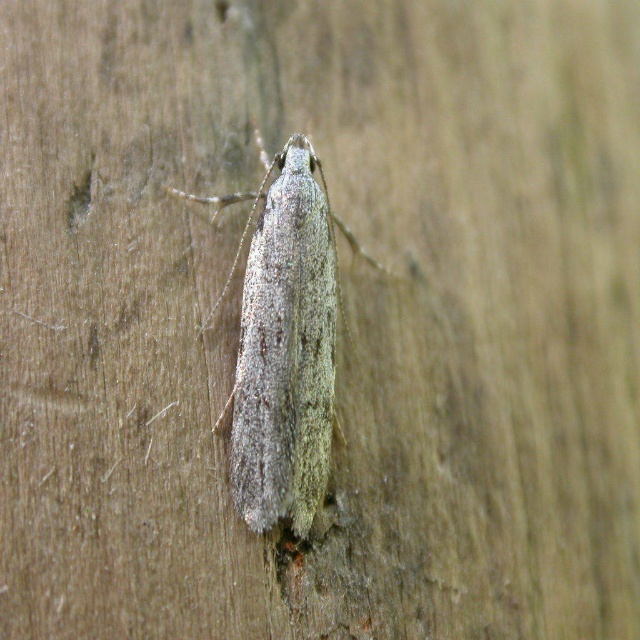Moths and butterflies: (161, 107, 408, 542)
